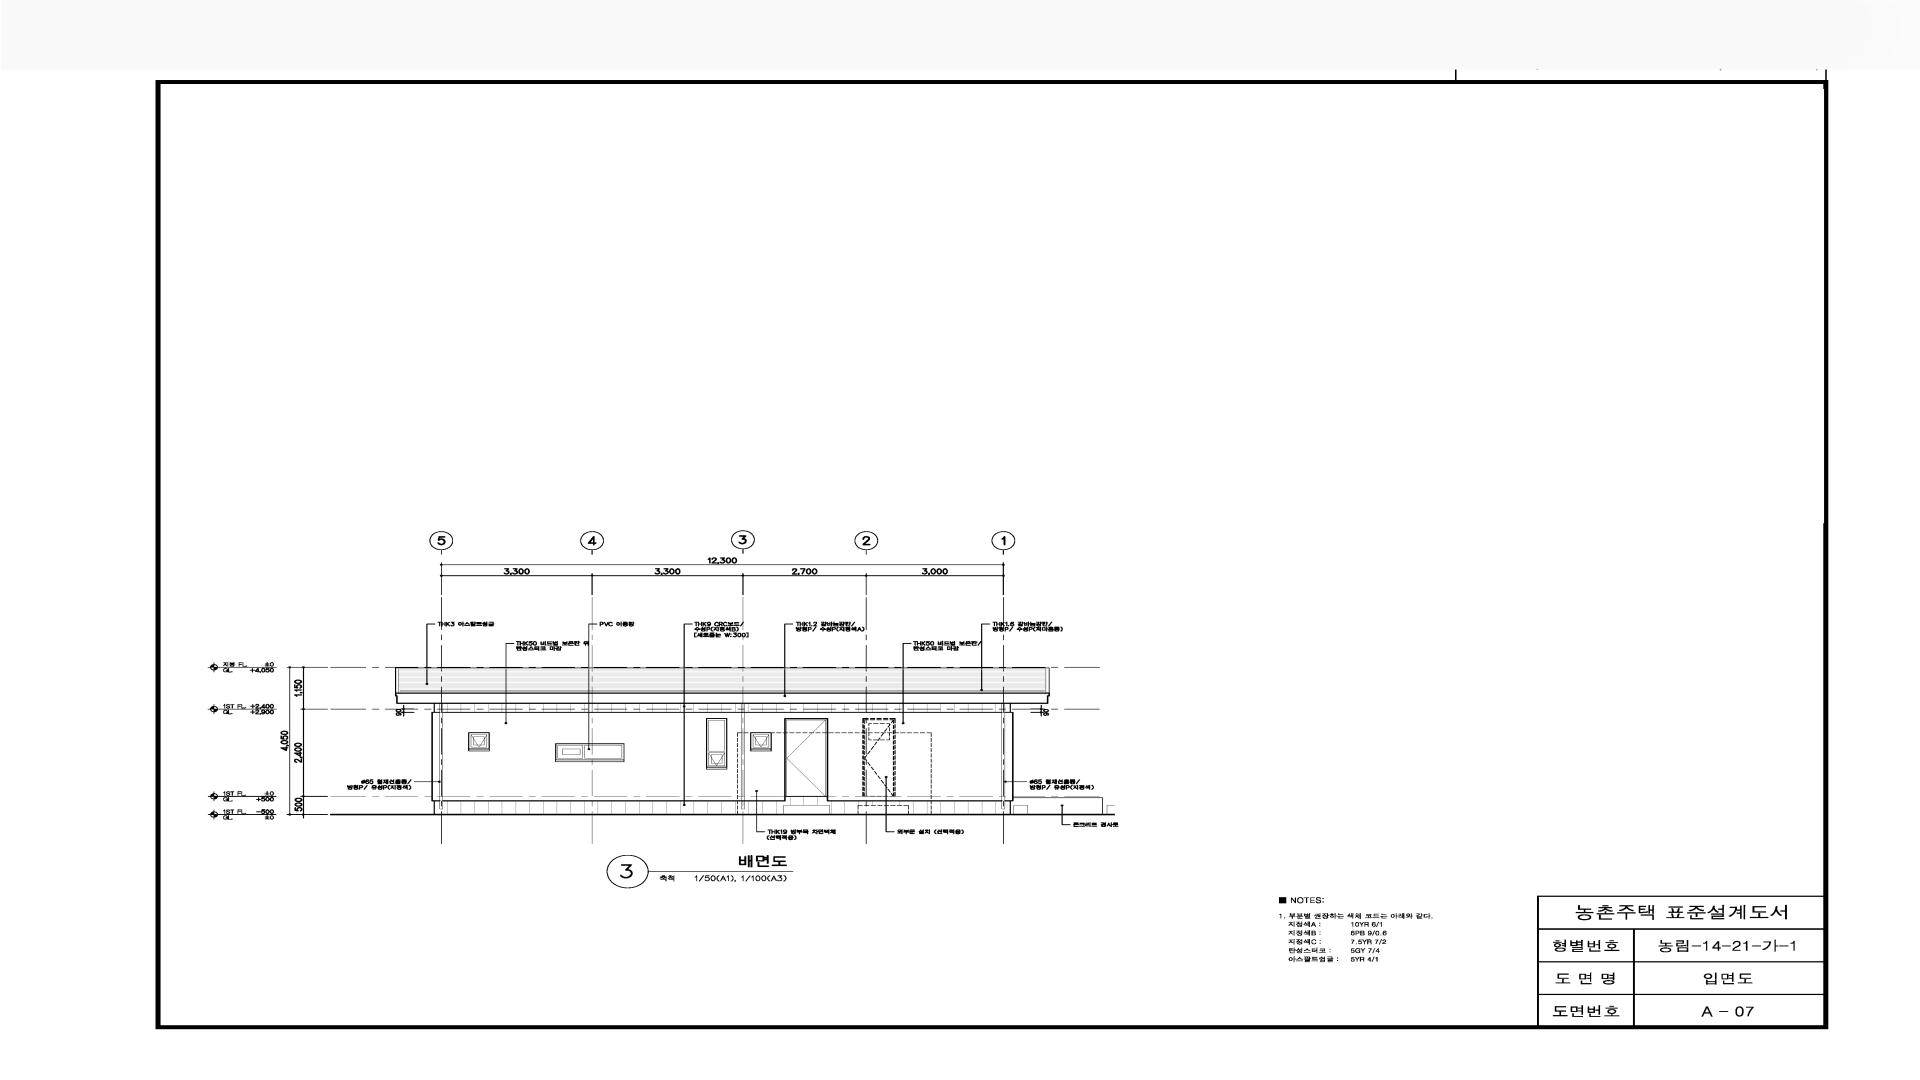door: (785, 719, 828, 796), (862, 717, 895, 796)
wall: (396, 667, 1050, 814)
window: (555, 744, 624, 762), (705, 719, 728, 769), (750, 732, 771, 752), (468, 732, 489, 752)
